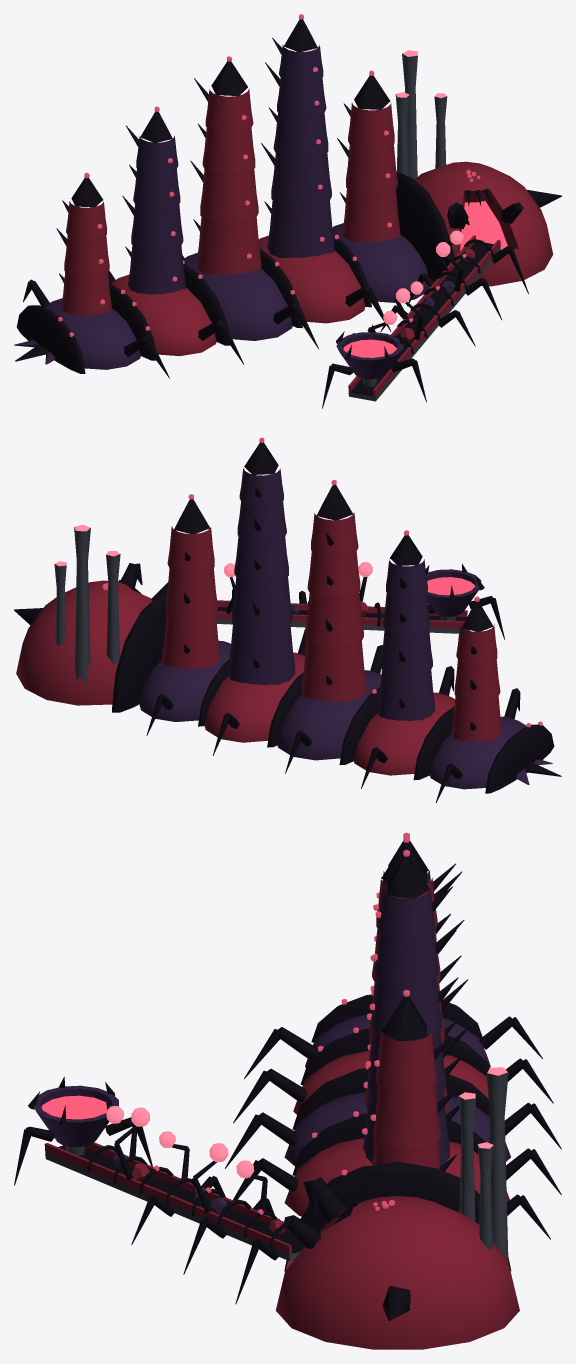
Rendered from refinery-directorate.glb.
The picture shows the model from 3 angles, top to bottom: view 1: azimuth 30°, elevation 25°; view 2: azimuth 150°, elevation 25°; view 3: azimuth 270°, elevation 25°; orthographic projection. The views are drawn at different scales.
Visible parts, largest first — view 1: crusher_cowl, tergite_2, tergite_3, tergite_1, tergite_4, tergite_0, crusher_ridge, silo_3_seg_0, silo_2_seg_0, silo_3_seg_1, silo_2_seg_1, silo_4_seg_0 (+40 smaller); view 2: crusher_cowl, tergite_2, tergite_3, tergite_1, crusher_ridge, tergite_4, silo_3_seg_0, silo_2_seg_0, tergite_0, silo_3_seg_1, silo_2_seg_1, silo_4_seg_0 (+32 smaller); view 3: crusher_cowl, crusher_ridge, silo_4_seg_1, tergite_3, silo_4_seg_2, exhaust_stack_1, silo_3_seg_3, tergite_2, conveyor_rail_s, silo_3_seg_2, silo_3_seg_4, tergite_ridge_2 (+29 smaller).
Part boxes in pixels (x1,y1,x2,y2): crusher_cowl: (414, 161, 553, 286); tergite_2: (183, 252, 292, 340); tergite_3: (258, 235, 365, 323); tergite_1: (110, 274, 216, 355); tergite_4: (332, 223, 429, 302); tergite_0: (44, 298, 140, 369); crusher_ridge: (396, 172, 454, 281); silo_3_seg_0: (267, 200, 334, 258); silo_2_seg_0: (196, 217, 261, 274); silo_3_seg_1: (271, 153, 331, 208); silo_2_seg_1: (200, 169, 258, 225); silo_4_seg_0: (342, 189, 400, 242); crusher_cowl: (16, 580, 152, 705); tergite_2: (277, 670, 381, 760); tergite_3: (204, 652, 304, 742); tergite_1: (353, 692, 454, 775); crusher_ridge: (112, 593, 166, 712); tergite_4: (139, 640, 230, 721); silo_3_seg_0: (227, 624, 295, 685); silo_2_seg_0: (301, 640, 366, 701); tergite_0: (429, 716, 527, 789); silo_3_seg_1: (232, 577, 292, 632); silo_2_seg_1: (305, 592, 363, 649); silo_4_seg_0: (162, 612, 219, 669); crusher_cowl: (276, 1196, 519, 1349); crusher_ridge: (284, 1161, 511, 1271); silo_4_seg_1: (373, 1085, 440, 1152); tergite_3: (284, 1138, 509, 1216); silo_4_seg_2: (376, 1030, 436, 1093); exhaust_stack_1: (486, 1072, 508, 1262); silo_3_seg_3: (375, 932, 438, 986); tergite_2: (284, 1092, 510, 1166); conveyor_rail_s: (44, 1143, 291, 1254); silo_3_seg_2: (370, 977, 441, 1040); silo_3_seg_4: (377, 889, 434, 940); tergite_ridge_2: (292, 1068, 490, 1129).
Bounding box in the file's own units: 280 × 133 × 187.
